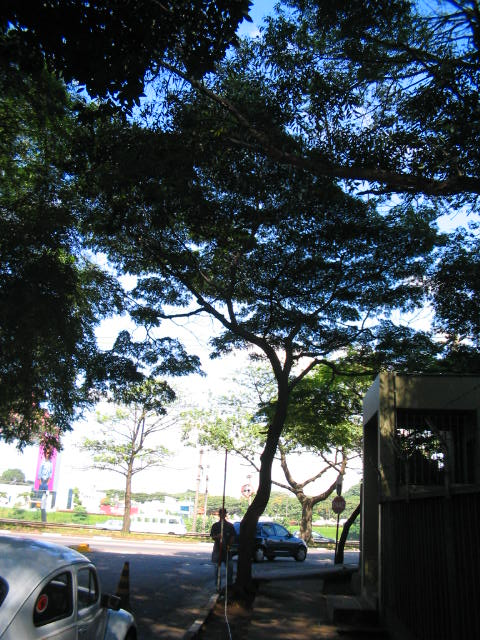crown: (72, 78, 452, 384)
stem: (230, 388, 316, 607)
stick: (210, 447, 235, 590)
tree: (69, 75, 454, 610)
